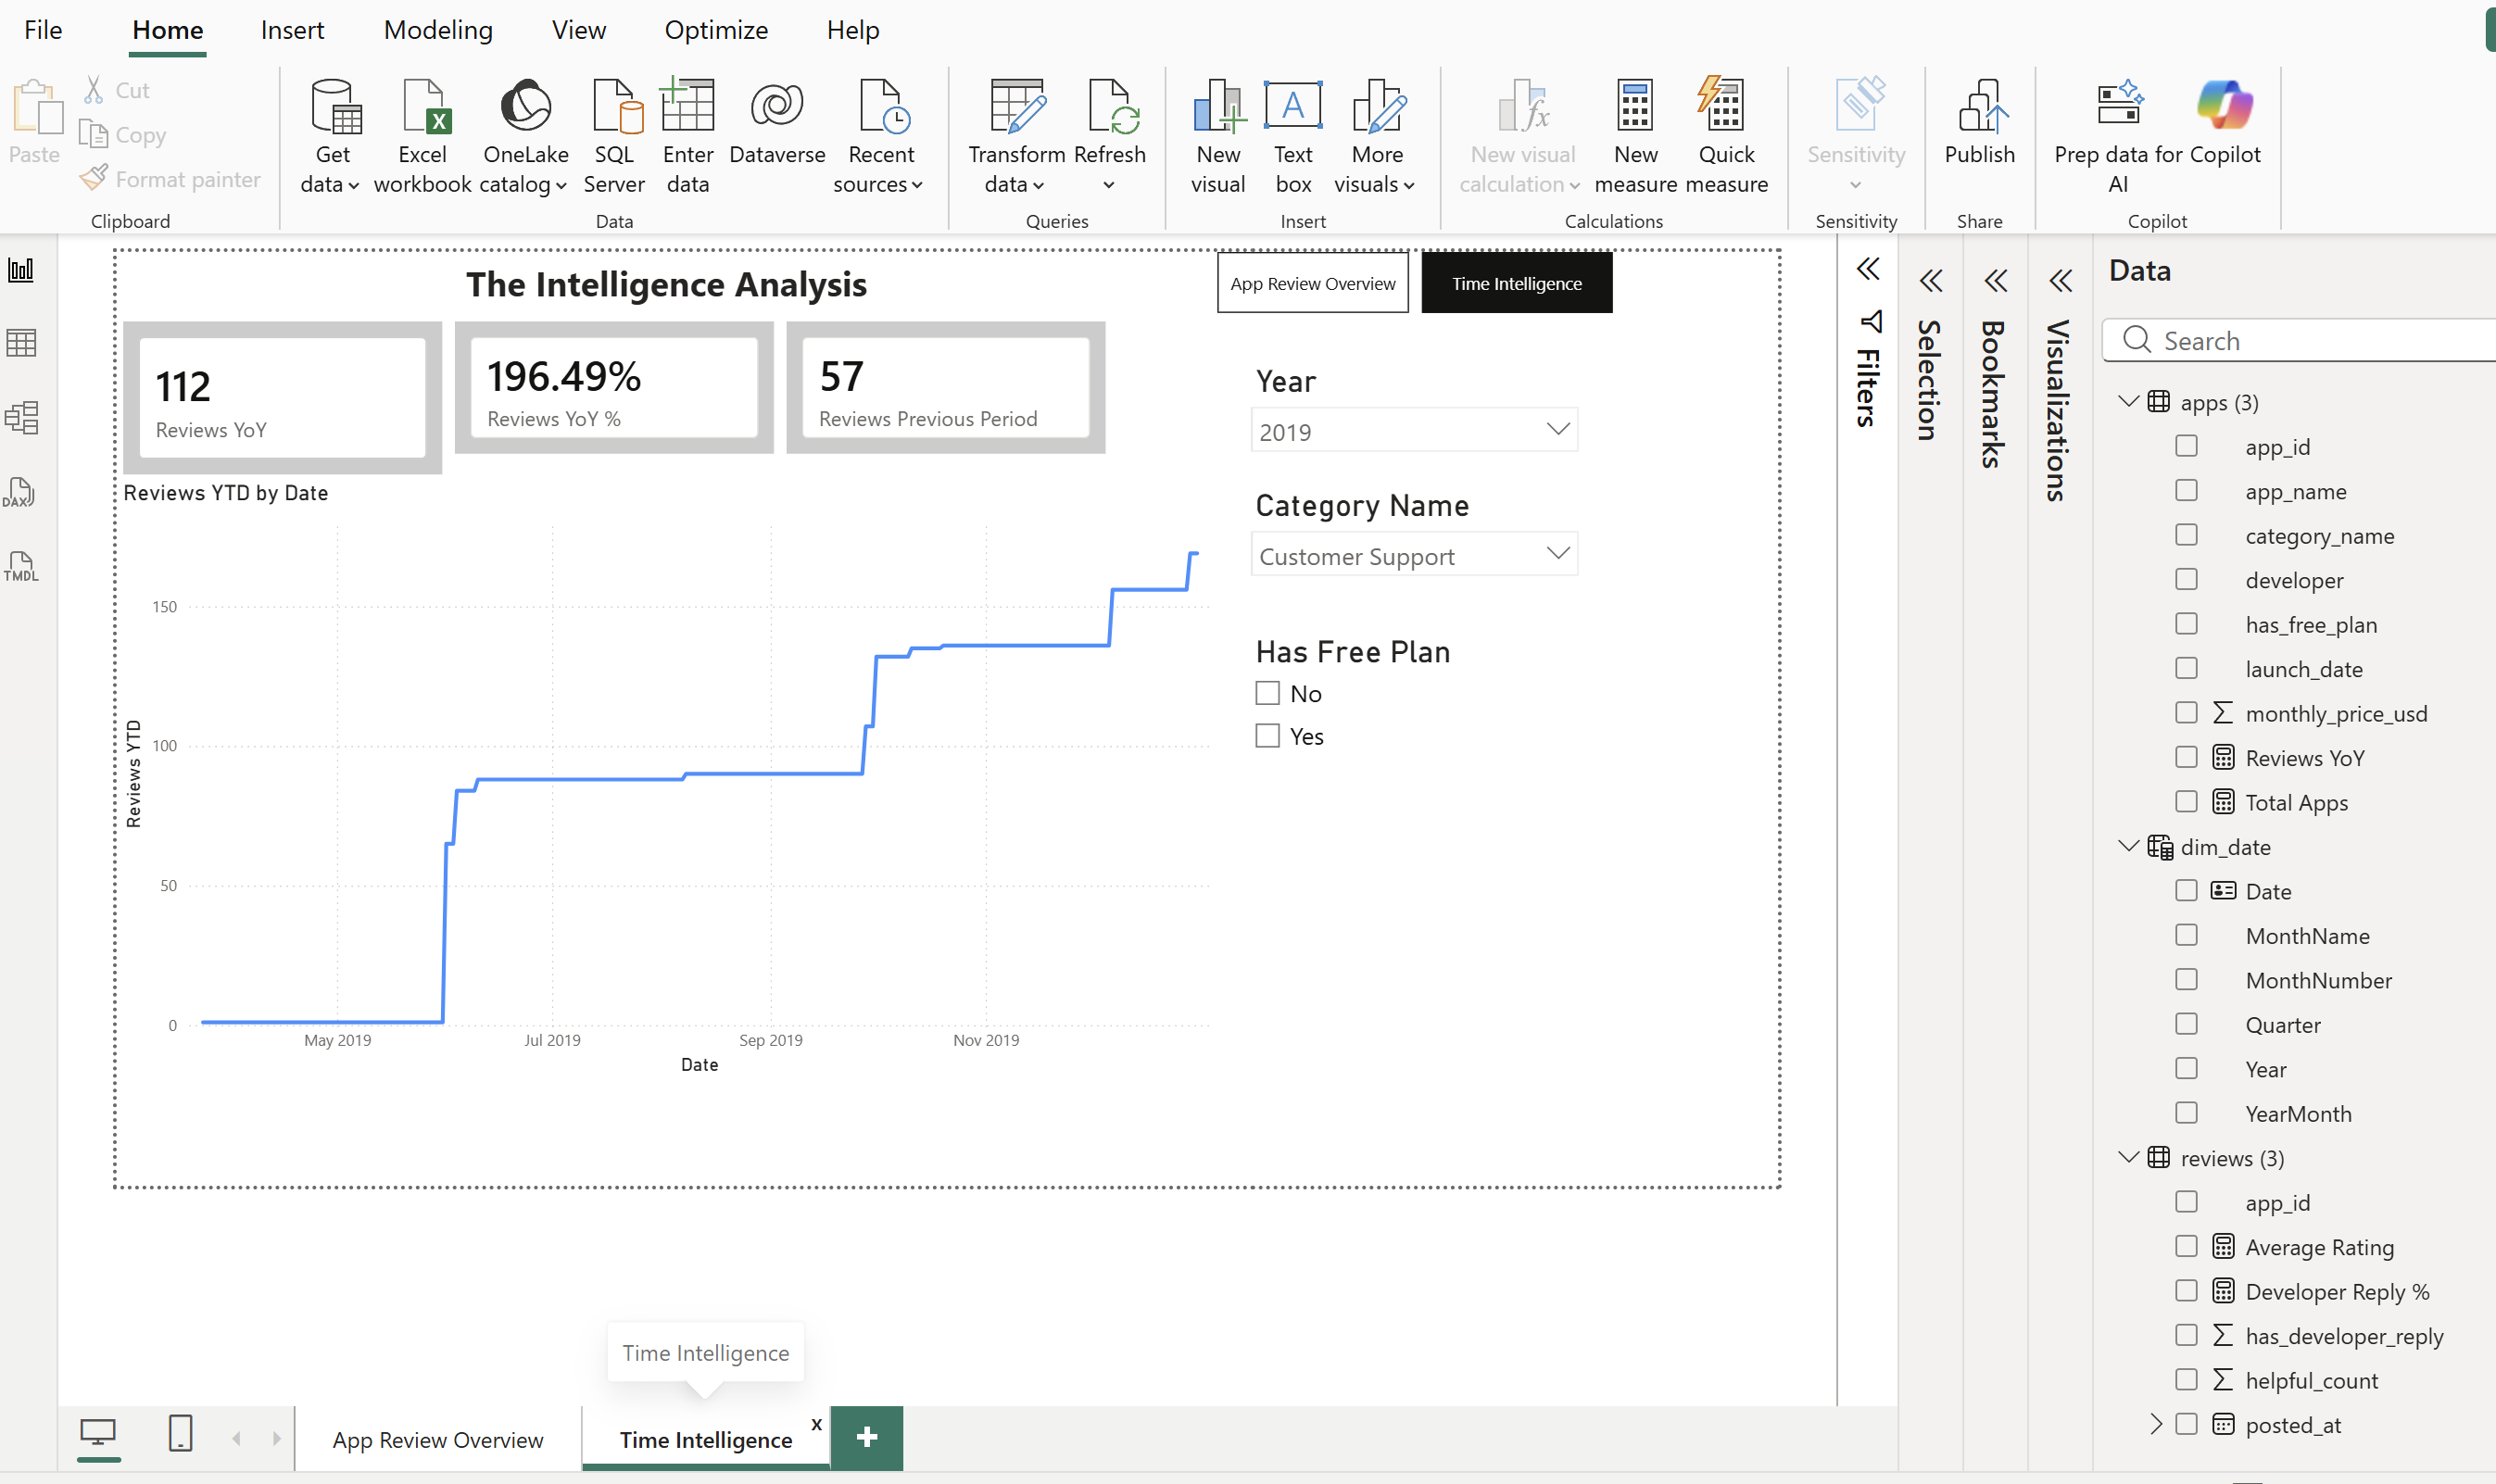

The page's visual inventory and layout, read from the dashboard file:
{"tool":"powerbi","page":{"name":"Time Intelligence","canvas":[1280,720],"ordinal":1},"visuals":[{"type":"lineChart","fields":{"Category":["dim_date.Date"],"Y":["reviews (3).Reviews YTD"]},"box":[0,176,864,464],"z":0},{"type":"cardVisual","fields":{"Data":["apps (3).Reviews YoY"]},"box":[0,48,256,128],"z":1000},{"type":"slicer","fields":{"Values":["dim_date.Year"]},"box":[864,80,272,128],"z":2000},{"type":"cardVisual","fields":{"Data":["reviews (3).Reviews Previous Period"]},"box":[512,48,256,112],"z":3000},{"type":"cardVisual","fields":{"Data":["reviews (3).Reviews YoY %"]},"box":[256,48,256,112],"z":4000},{"type":"slicer","fields":{"Values":["apps (3).category_name"]},"box":[864,176,272,112],"z":5000},{"type":"slicer","fields":{"Values":["apps (3).has_free_plan"]},"box":[864,288,288,112],"z":6000},{"type":"pageNavigator","box":[848,0,304,48],"z":7000},{"type":"textbox","box":[0,0,848,48],"z":7001}]}

Visuals, with their boxes on the page's 1280x720 design canvas (x1, y1, x2, y2). These are canvas units, not pixel positions in the 2496x1484 screenshot, which may show the page scaled, cropped or inside an application window:
lineChart - dim_date.Date x reviews (3).Reviews YTD: x1=0, y1=176, x2=864, y2=640
cardVisual - apps (3).Reviews YoY: x1=0, y1=48, x2=256, y2=176
slicer - dim_date.Year: x1=864, y1=80, x2=1136, y2=208
cardVisual - reviews (3).Reviews Previous Period: x1=512, y1=48, x2=768, y2=160
cardVisual - reviews (3).Reviews YoY %: x1=256, y1=48, x2=512, y2=160
slicer - apps (3).category_name: x1=864, y1=176, x2=1136, y2=288
slicer - apps (3).has_free_plan: x1=864, y1=288, x2=1152, y2=400
pageNavigator: x1=848, y1=0, x2=1152, y2=48
textbox: x1=0, y1=0, x2=848, y2=48
